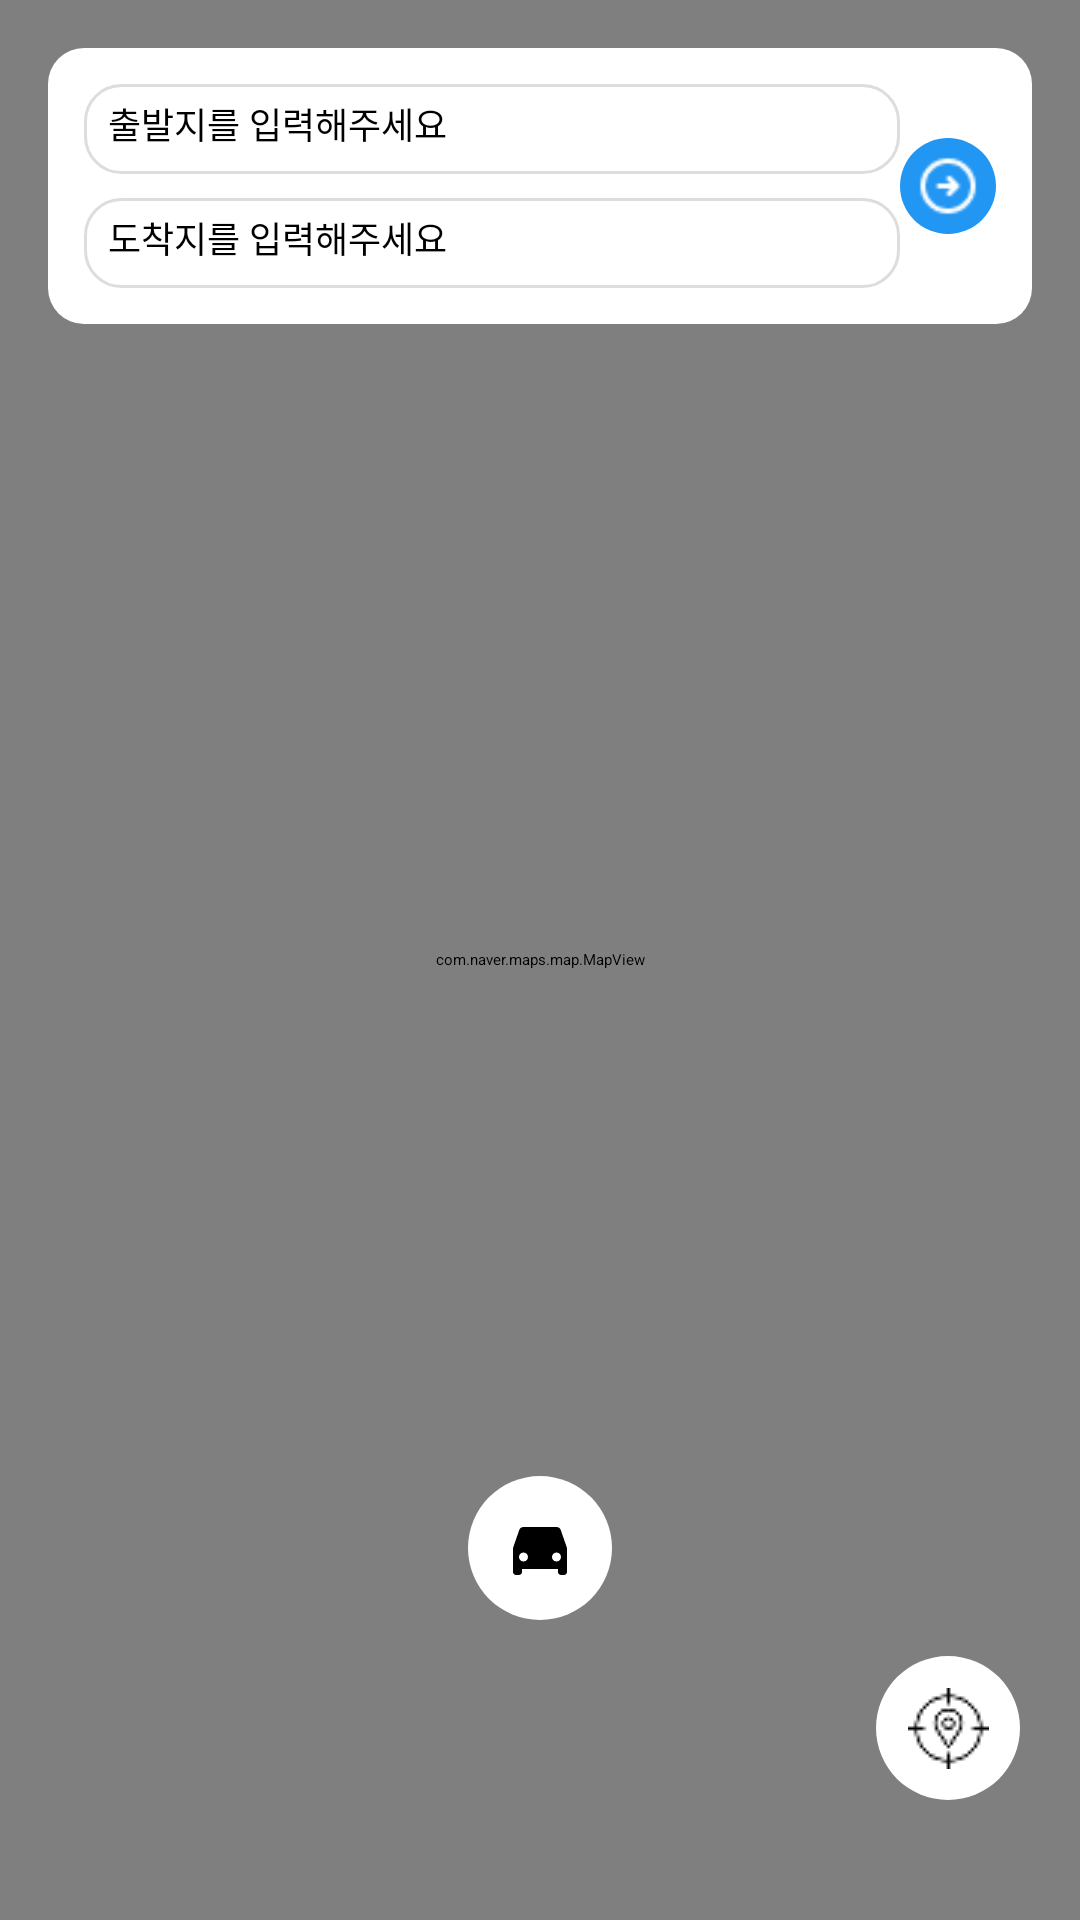

Screen size 1080 x 1920. Icon name, then its center in pixels as (x,y):
내 위치: (948,1728)
차량 감지 테스트: (540,1548)
